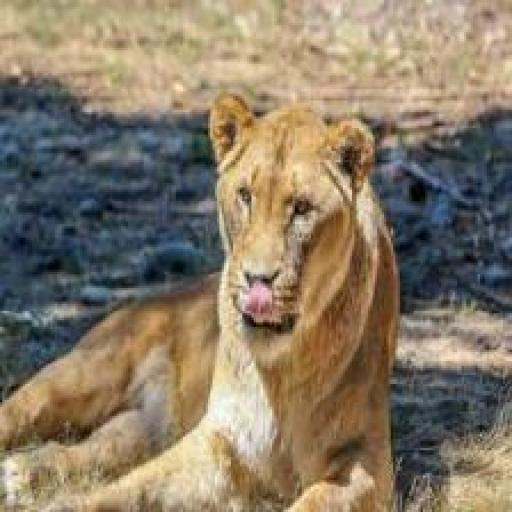lion: (64, 117, 392, 498)
